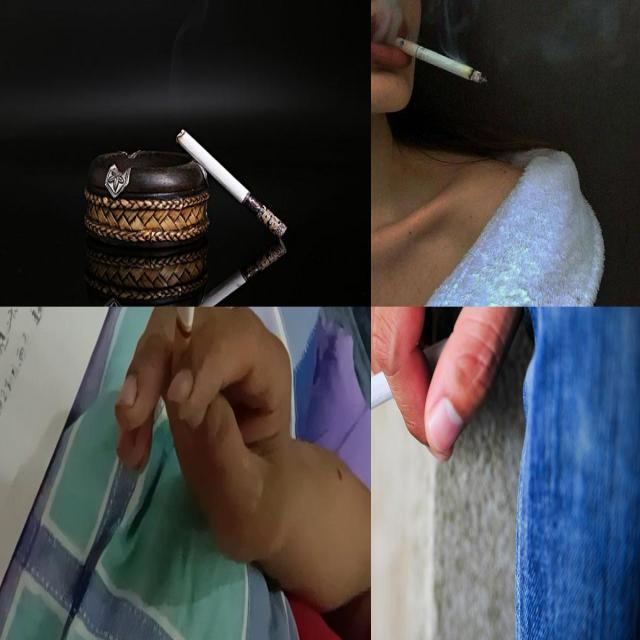smoking: (173, 124, 289, 240), (371, 335, 455, 449), (176, 240, 296, 306), (386, 34, 488, 84), (168, 306, 200, 394)
